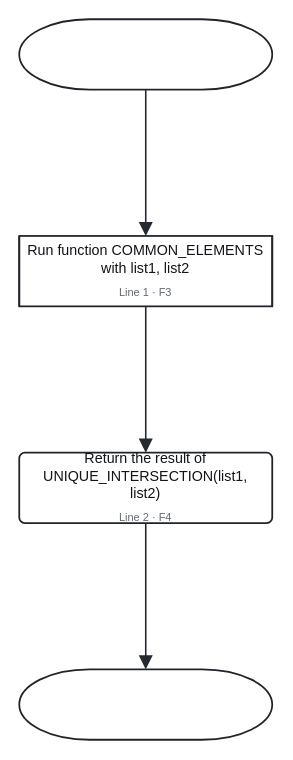
Some shapes in this 293 by 760 pixel diagram are drawn without their labels. The shapes that lost their labels are listed below. From the top down, each one's box as (x1, y1, x2, y2) in pixels, then its label:
(18, 18, 273, 90): Start Line 1 · F1
(18, 668, 273, 740): End Line 1 · F2
